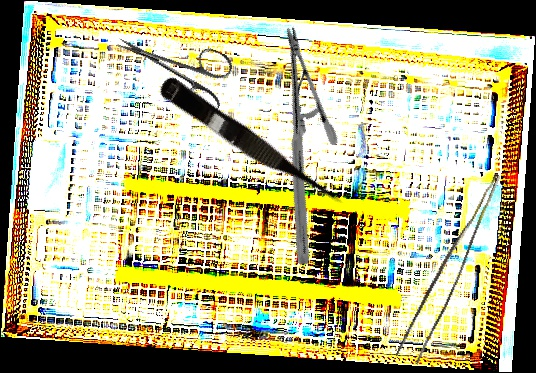Iris Scissors: (103, 12, 240, 123)
Micro Scissor: (153, 74, 349, 218)
Needle Holder: (189, 24, 406, 268)
Tissue Forceps: (395, 164, 501, 368)
